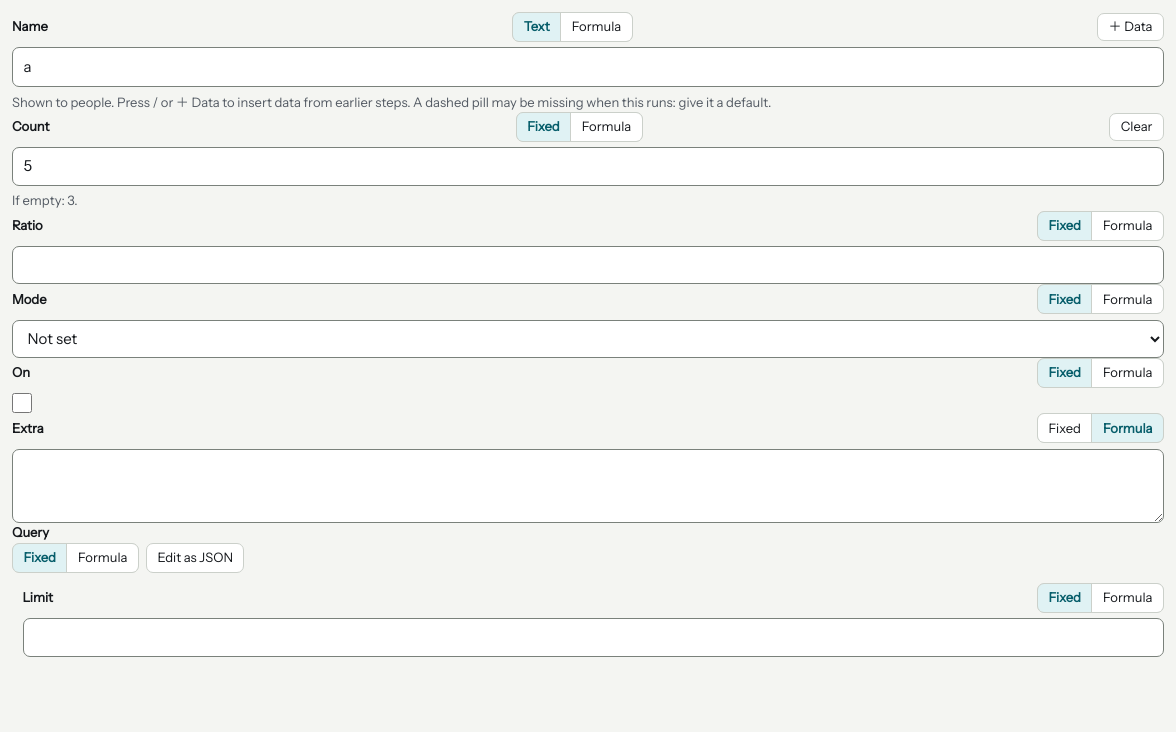
removes an emptied field, so its default applies, and says a required one is needed
This screenshot has width=1176, height=732.
Clear the field labelled "Count": (588, 167) [12,147,1164,186]
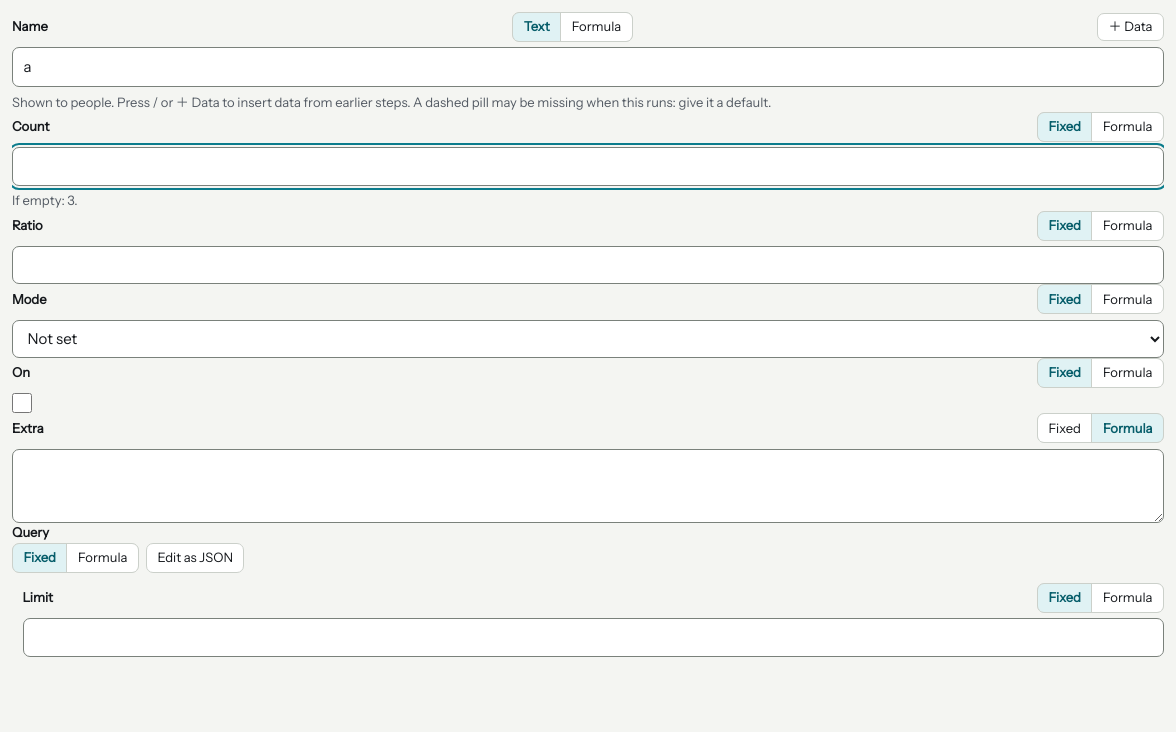
Clear the field labelled "Name": (588, 67) [24,55,1152,79]
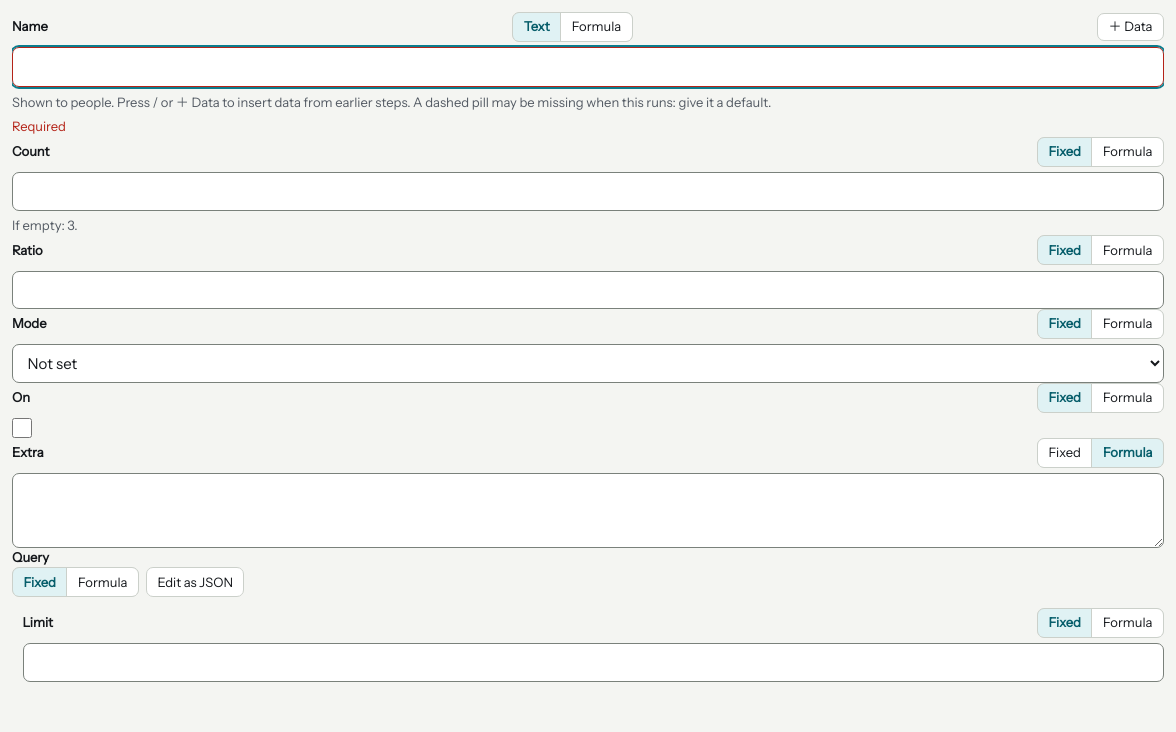
Now the text "Required" is shown, box [12,118,66,134]
